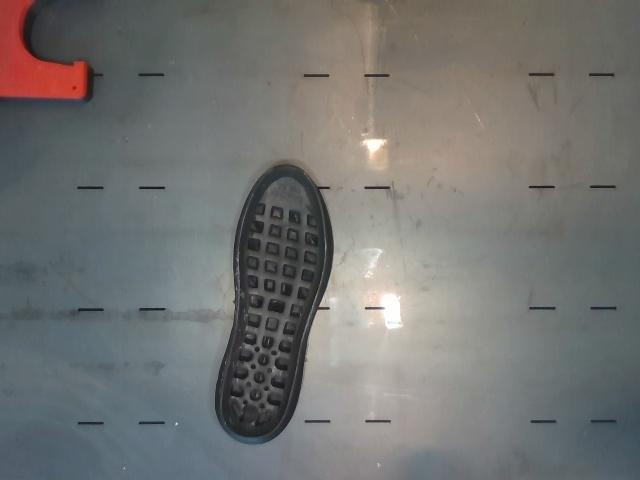shoes: (222, 165, 325, 437)
